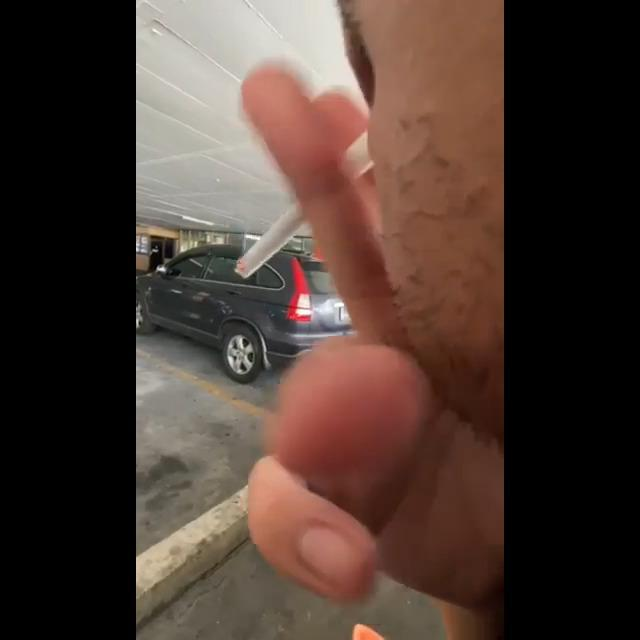rokok: (223, 202, 329, 282)
